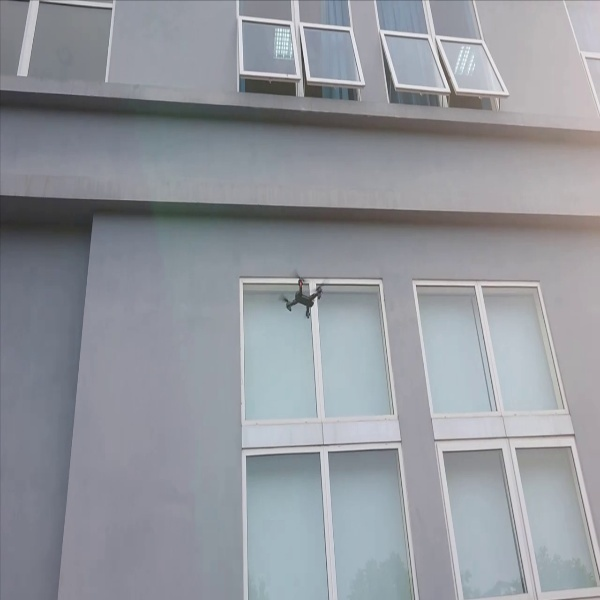drone: (275, 268, 330, 321)
